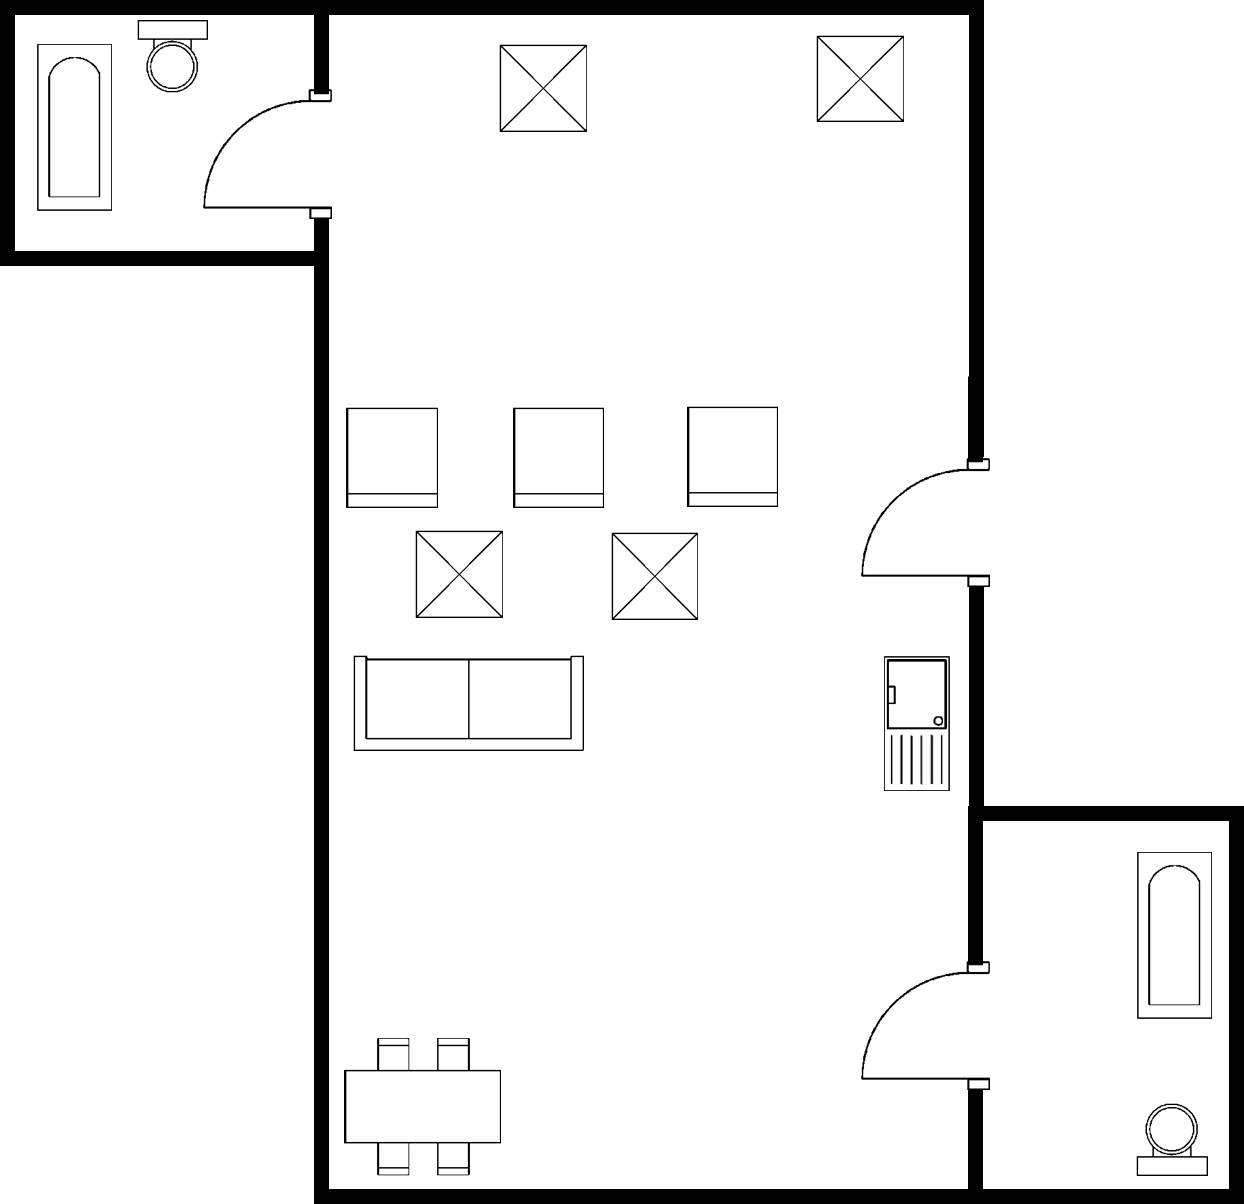dining_table: (337, 1029, 515, 1181)
sink: (876, 649, 955, 799)
sofa: (347, 649, 591, 755)
toilet: (1128, 1094, 1215, 1181), (129, 14, 217, 98)
tub: (1124, 840, 1217, 1026), (29, 36, 120, 217)
